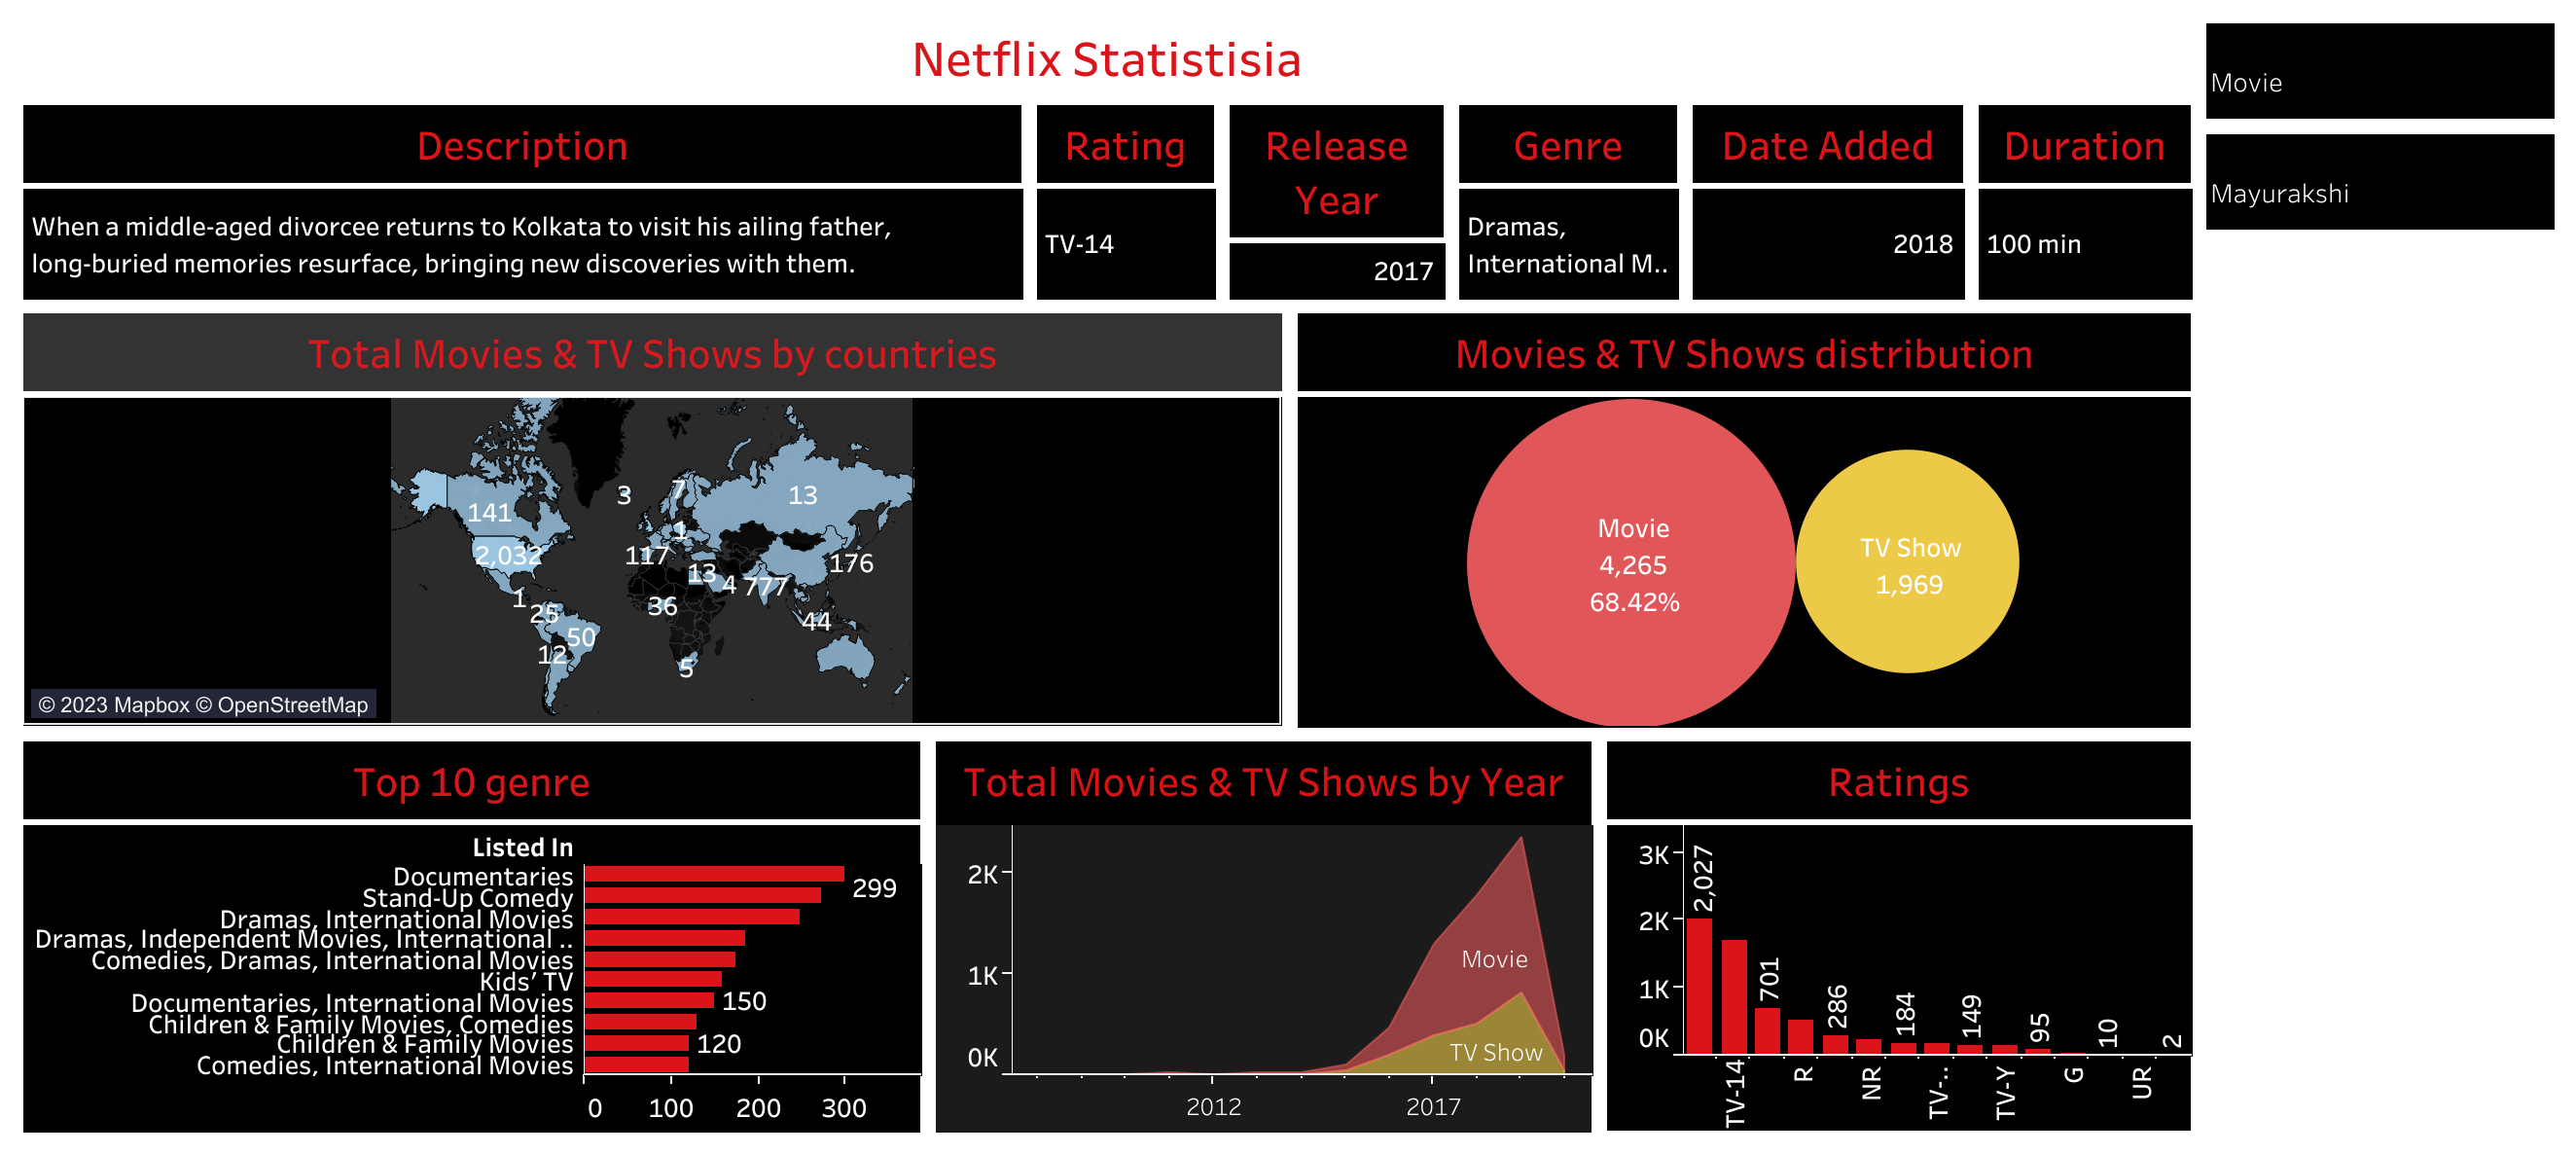

The page's visual inventory and layout, read from the dashboard file:
{"tool":"tableau","page":{"name":"Netflix Statistisia","canvas":[1000,1000],"units":"permille","ordinal":0},"visuals":[{"type":"title","box":[7,11.1,845.4,56.7]},{"type":"filter","title":"Description","param":"[federated.010uaf30c3kp4i13tyccg0it5dsc].[none:type:nk]","box":[852.4,11.1,140.5,73.3]},{"type":"worksheet","title":"Description","mark":"Automatic","box":[7,67.8,392.6,184.2]},{"type":"worksheet","title":"Rating","mark":"Automatic","box":[399.7,67.8,74.1,184.2]},{"type":"worksheet","title":"Release Year","mark":"Automatic","box":[473.8,67.8,89.1,184.2]},{"type":"worksheet","title":"Genre","mark":"Automatic","box":[563,67.8,90,184.2]},{"type":"worksheet","title":"Date Added","mark":"Automatic","box":[653,67.8,111.2,184.2]},{"type":"worksheet","title":"Duration","mark":"Automatic","box":[764.1,67.8,88.3,184.2]},{"type":"filter","title":"Description","param":"[federated.010uaf30c3kp4i13tyccg0it5dsc].[none:title:nk]","box":[852.4,84.4,140.5,73.3]},{"type":"worksheet","title":"Total Movies & TV Shows by countries","mark":"Multipolygon","box":[7,251.9,493.2,378.2]},{"type":"worksheet","title":"Movies & TV Shows distribution","mark":"Circle","box":[500.3,251.9,352.1,378.2]},{"type":"worksheet","title":"Top 10 genre","mark":"Automatic","rows":["listed_in"],"cols":["show_id"],"box":[7,630.1,352.9,358.8]},{"type":"worksheet","title":"Total Movies & TV Shows by Year","mark":"Area","rows":["show_id"],"cols":["date_added"],"box":[360,630.1,259.9,358.8]},{"type":"worksheet","title":"Ratings","mark":"Automatic","rows":["show_id"],"cols":["rating"],"box":[619.9,630.1,232.6,358.8]}]}

Visuals, with their boxes on the dashboard's canvas, which has no fixed pixel size, in thousandths of its width and height (x1, y1, x2, y2). These are canvas units, not pixel positions in the 2576x1154 screenshot, which may show the page scaled, cropped or inside an application window:
title: <bbox>7, 11, 852, 68</bbox>
"Description" filter: <bbox>852, 11, 993, 84</bbox>
"Description" worksheet: <bbox>7, 68, 400, 252</bbox>
"Rating" worksheet: <bbox>400, 68, 474, 252</bbox>
"Release Year" worksheet: <bbox>474, 68, 563, 252</bbox>
"Genre" worksheet: <bbox>563, 68, 653, 252</bbox>
"Date Added" worksheet: <bbox>653, 68, 764, 252</bbox>
"Duration" worksheet: <bbox>764, 68, 852, 252</bbox>
"Description" filter: <bbox>852, 84, 993, 158</bbox>
"Total Movies & TV Shows by countries" worksheet (Multipolygon marks): <bbox>7, 252, 500, 630</bbox>
"Movies & TV Shows distribution" worksheet (Circle marks): <bbox>500, 252, 852, 630</bbox>
"Top 10 genre" worksheet: <bbox>7, 630, 360, 989</bbox>
"Total Movies & TV Shows by Year" worksheet (Area marks): <bbox>360, 630, 620, 989</bbox>
"Ratings" worksheet: <bbox>620, 630, 852, 989</bbox>
